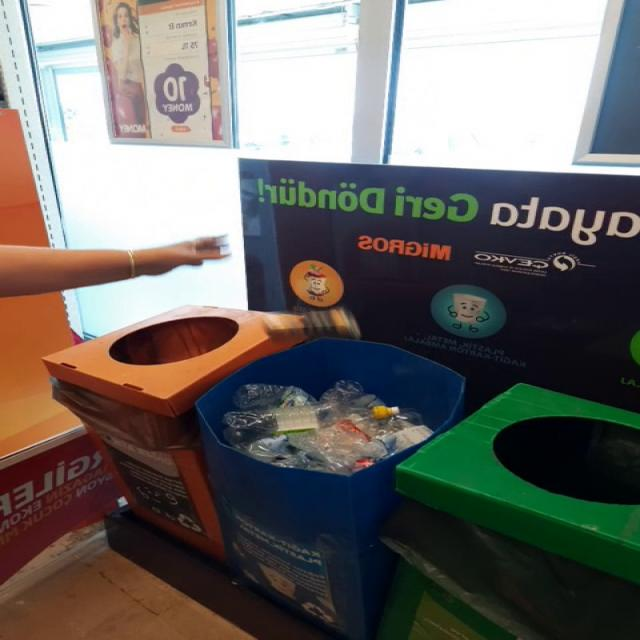bin: (44, 306, 465, 640), (396, 384, 640, 584)
metal: (263, 308, 361, 344)
